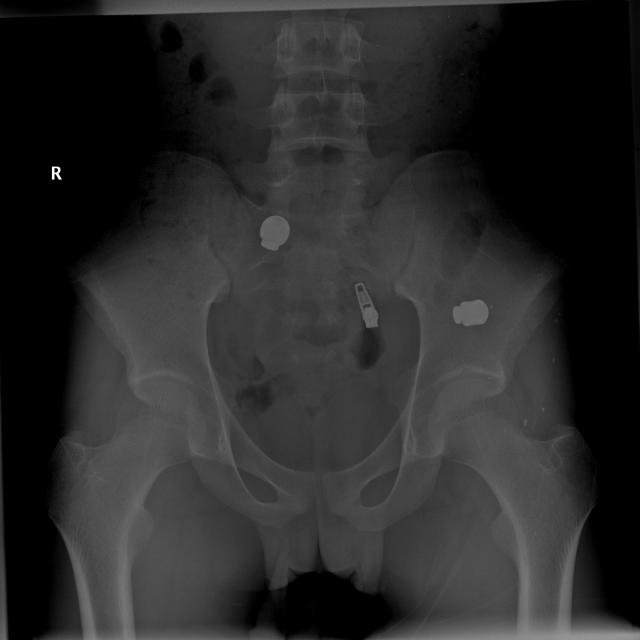normal-left: (430, 378, 602, 639)
normal-right: (46, 380, 205, 639)
